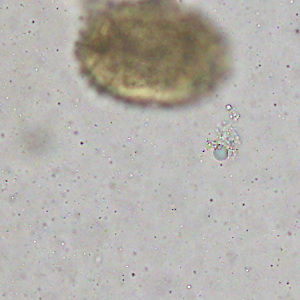Fasciola_hepatica_egg: (74, 3, 231, 107)
